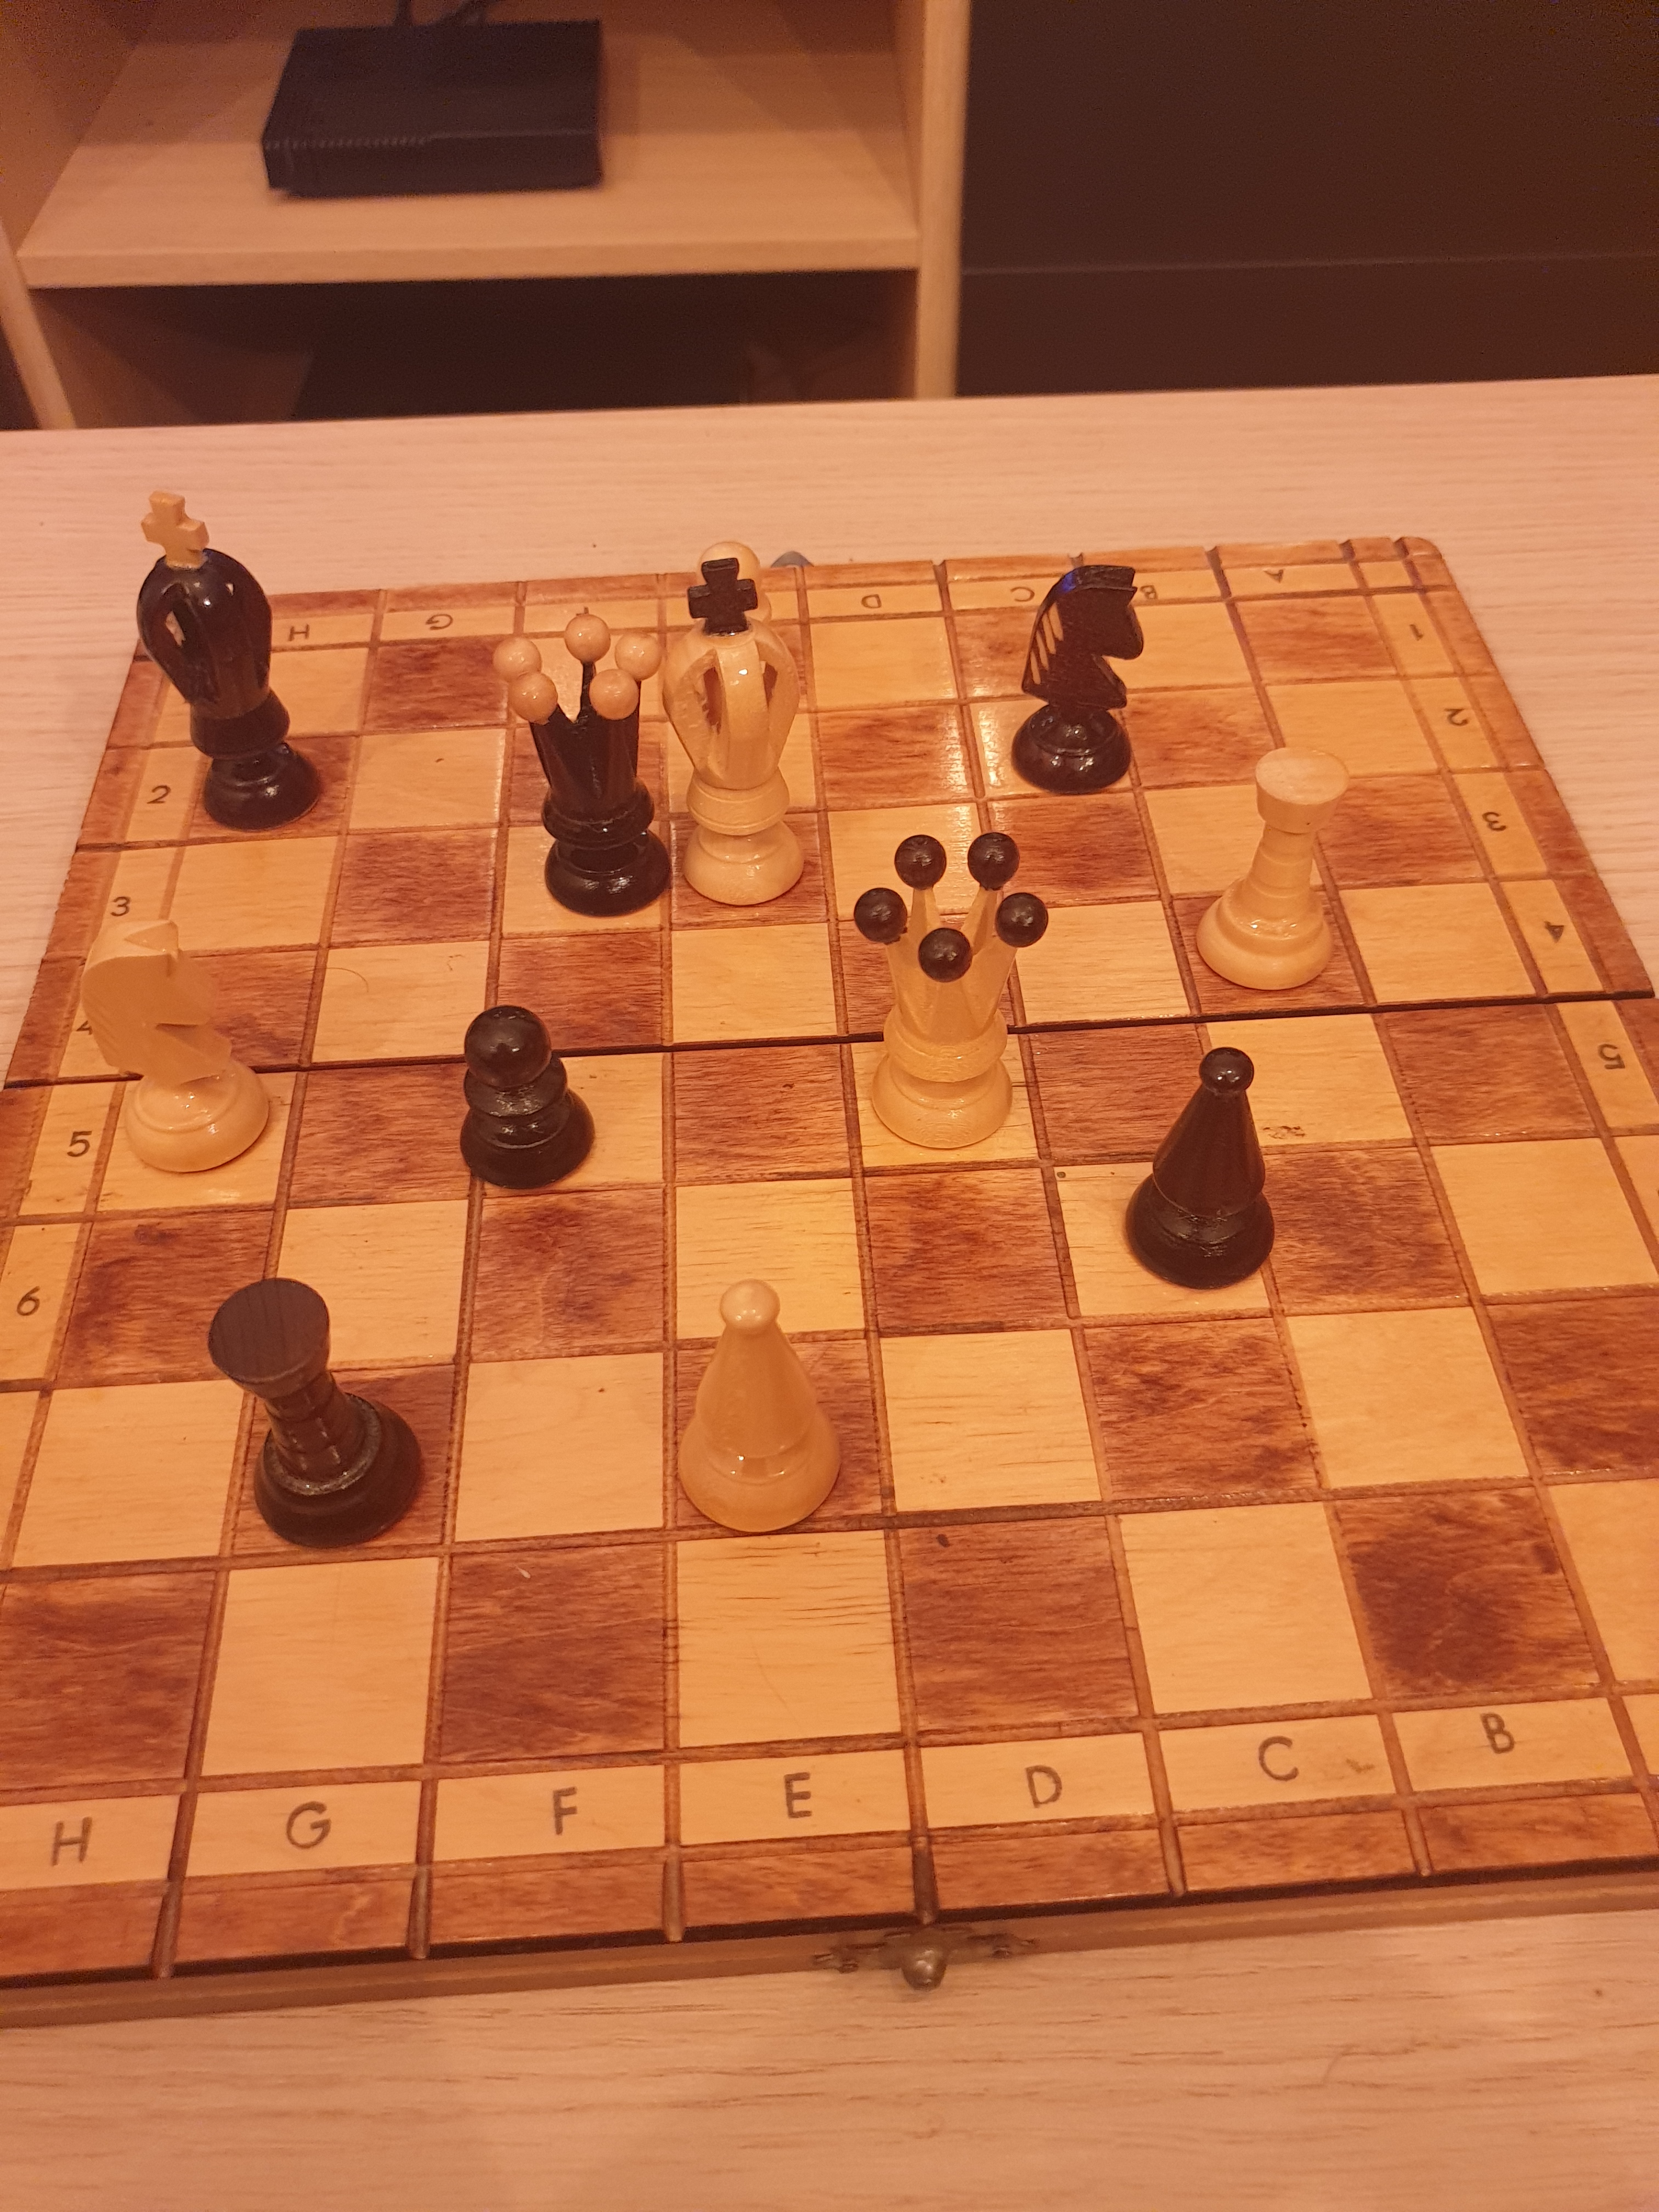bbishop: (1112, 1031, 1298, 1303)
bking: (127, 482, 329, 836)
bknight: (1000, 549, 1157, 806)
bpawn: (439, 1000, 606, 1204)
bqueen: (486, 597, 687, 930)
brook: (200, 1271, 436, 1557)
wbishop: (652, 1271, 864, 1552)
wking: (657, 554, 812, 906)
wknight: (68, 902, 291, 1183)
wpawn: (678, 531, 802, 723)
wqueen: (842, 824, 1060, 1172)
wrook: (1187, 735, 1364, 993)
